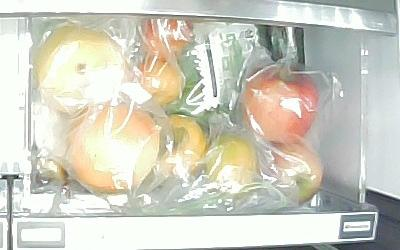apple_vinyl: (238, 61, 321, 144), (261, 136, 325, 206)
grapefruit_vinyl: (33, 25, 130, 114), (66, 105, 162, 192)
persimmon_vinyl: (206, 134, 260, 195), (159, 114, 209, 176)
prune_vinyl: (135, 55, 184, 106), (140, 16, 196, 57)
